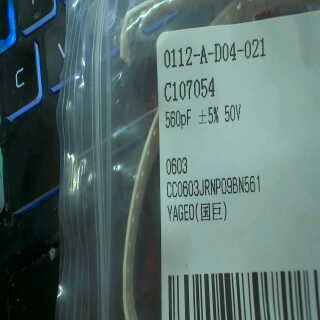560pF: (164, 103, 197, 131)
